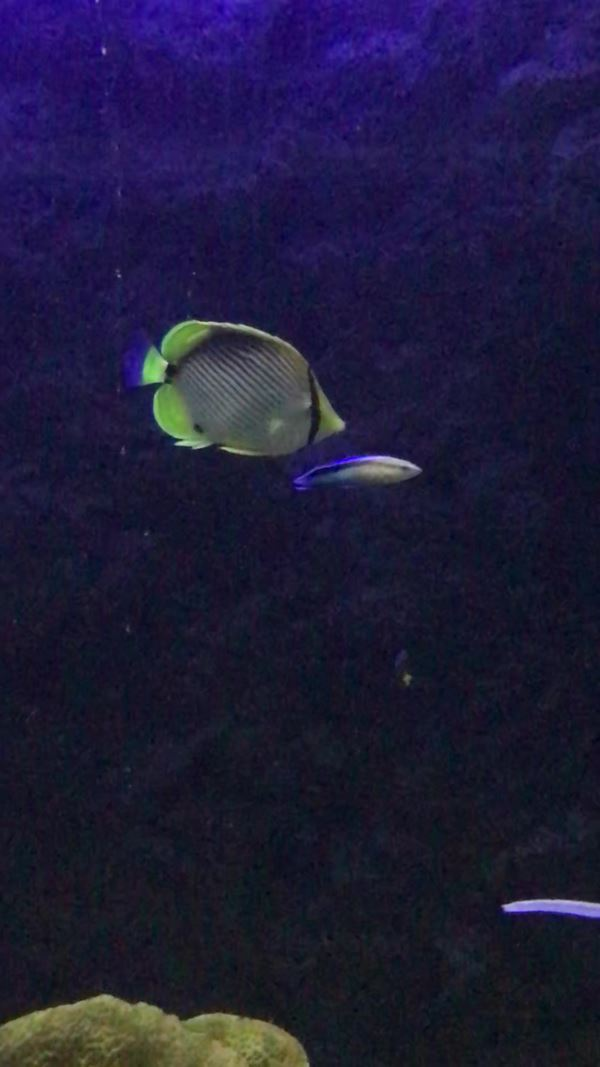Black-backed butterflyfish: (106, 305, 355, 475)
